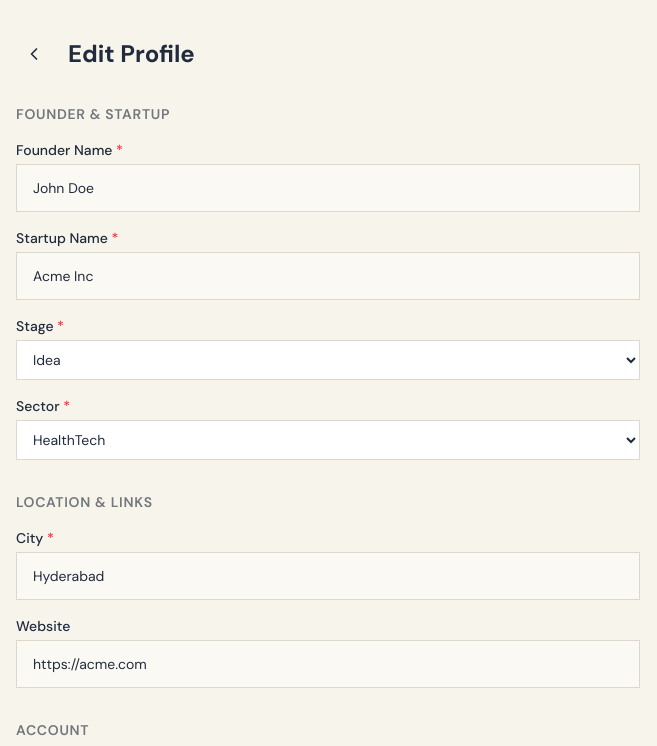
Test: ProfileEditPage › validates required fields
Clear founder name
Clear the field labelled "Founder Name *" at (328, 188), box left=16, top=164, right=640, bottom=212
(page scrolled)
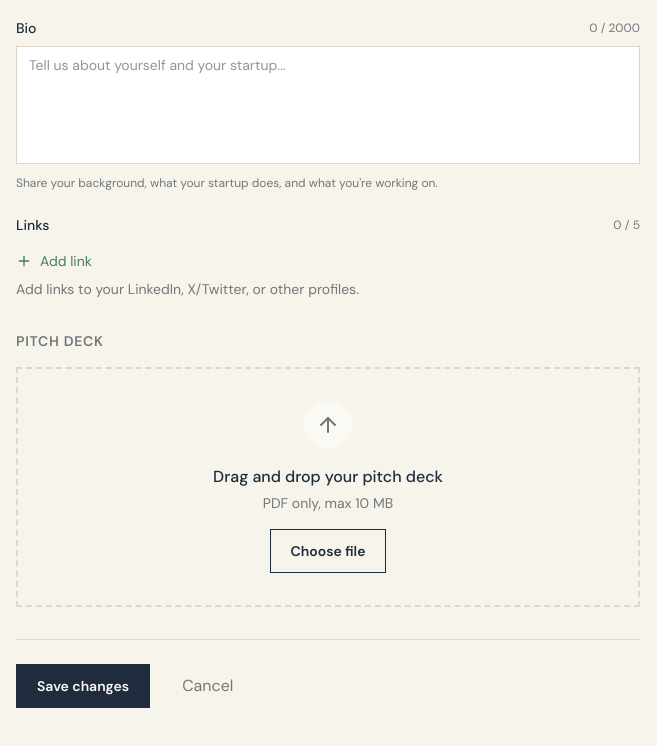
Submit form
Click the button "Save changes" at (83, 686), box left=16, top=664, right=150, bottom=708
(page scrolled)
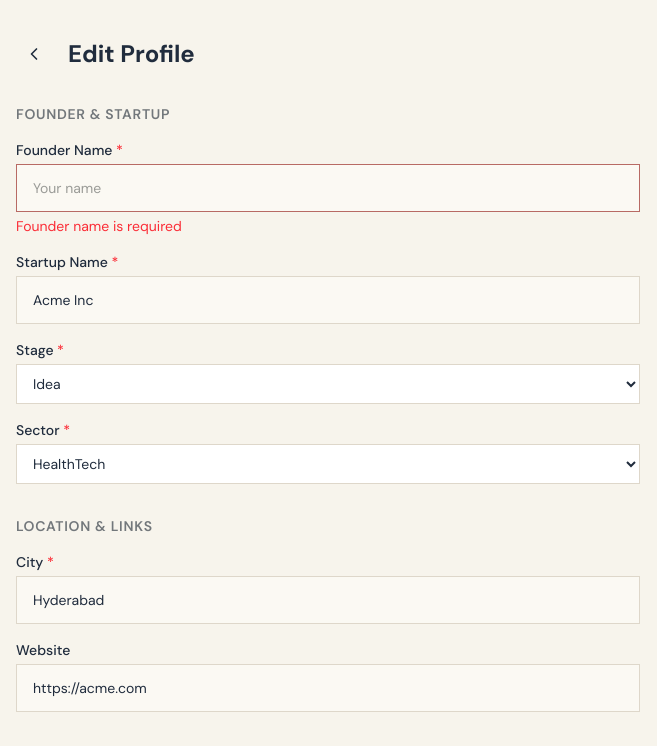
expect the text "Founder name is required" is shown: met, box left=16, top=217, right=182, bottom=235
